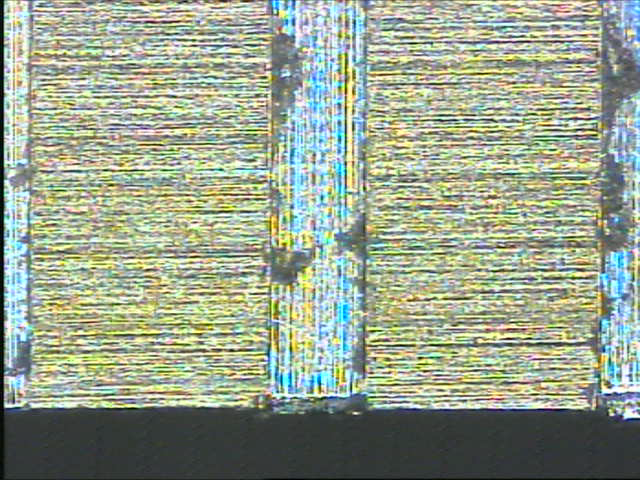line: (263, 1, 374, 415)
